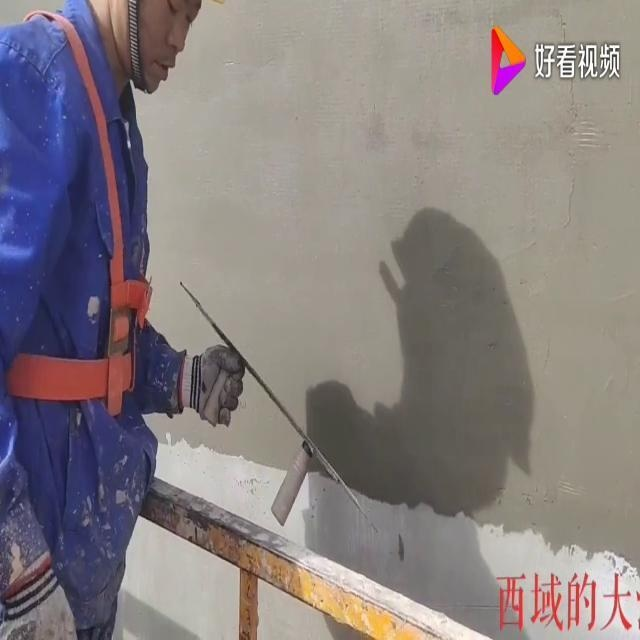Arnes_seguridad: (0, 0, 159, 436)
